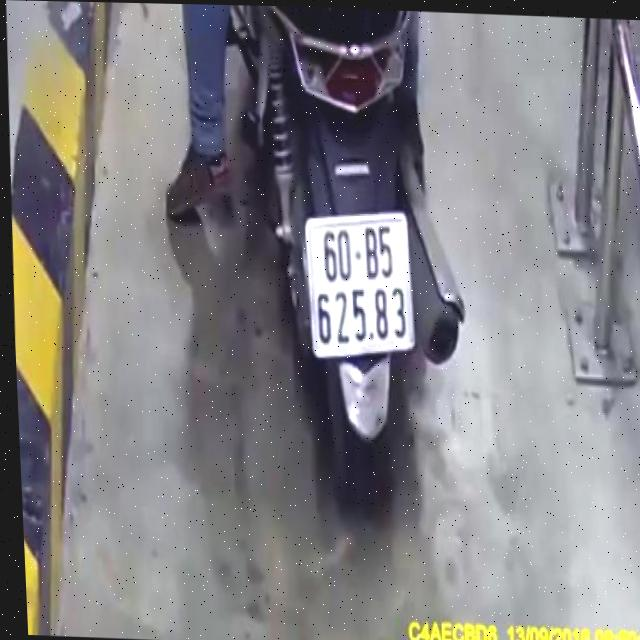motorcycle: (219, 6, 485, 518)
plate: (297, 210, 421, 360)
